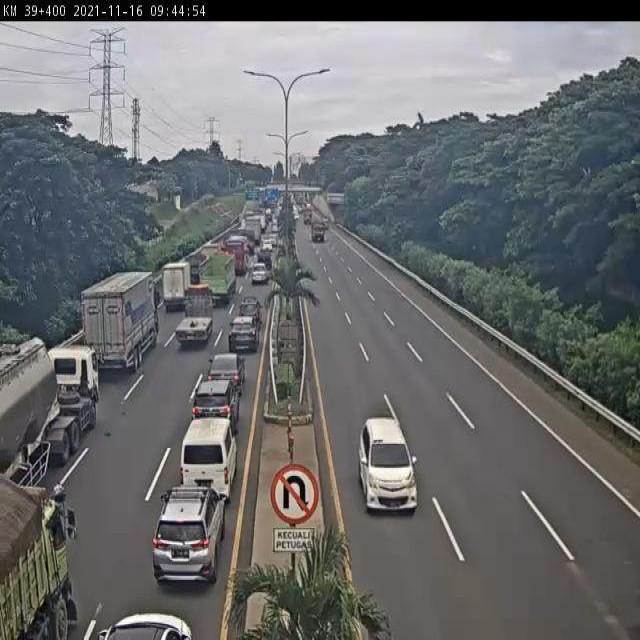car: (152, 488, 224, 584), (359, 420, 419, 516), (188, 382, 236, 446), (205, 355, 242, 397), (226, 315, 258, 353), (235, 298, 262, 330), (247, 260, 268, 288)
small bus: (180, 419, 235, 500)
truck-l-: (80, 273, 162, 372), (199, 252, 235, 304)
truck-m-: (175, 287, 216, 345), (160, 260, 191, 308)
truck-xl-: (0, 336, 100, 476)
